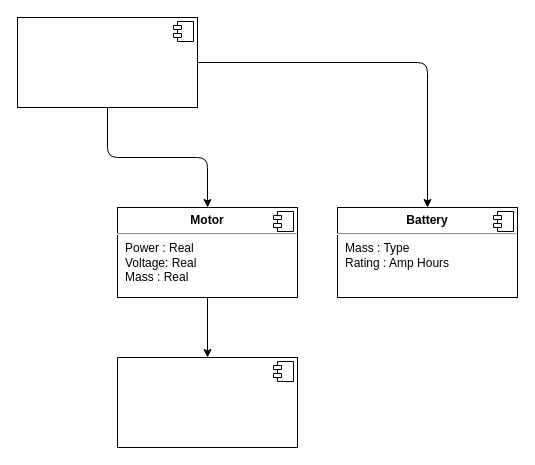
This 535x465 diagram has some shape labels left out. The centre of each missing label's shape, as x and y in pixels:
Drone Mass : Real: (107,62)
Stator Mass : Real Slots : Real TurnsPerSlot : Real: (207,402)
